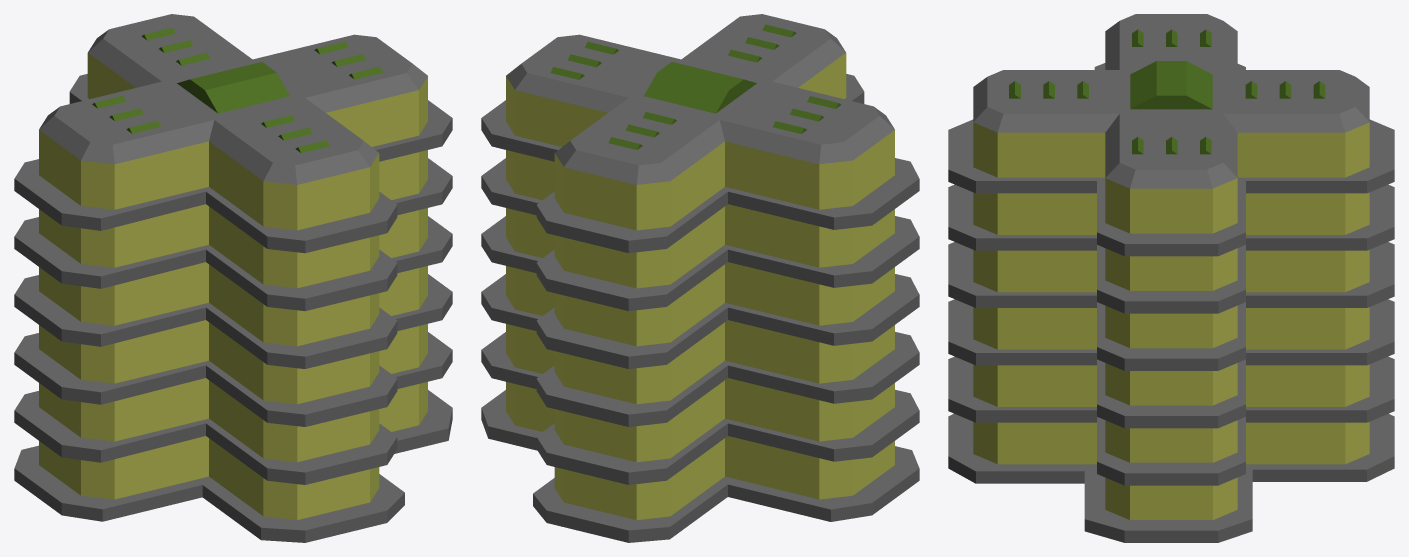
The model's file is Apartment_building.fbx.
The picture shows the model from 3 angles, left to right: view 1: azimuth 30°, elevation 25°; view 2: azimuth 150°, elevation 25°; view 3: azimuth 270°, elevation 25°; orthographic projection.
Parts seen in each view (by area): view 1: Apartment_building; view 2: Apartment_building; view 3: Apartment_building.
Boxes of the visible parts, left/top/right/bottom form: Apartment_building: left=14, top=14, right=452, bottom=542; Apartment_building: left=481, top=14, right=919, bottom=542; Apartment_building: left=948, top=14, right=1394, bottom=542.
Bounding box in the file's own units: 10250 × 9386 × 10250.
